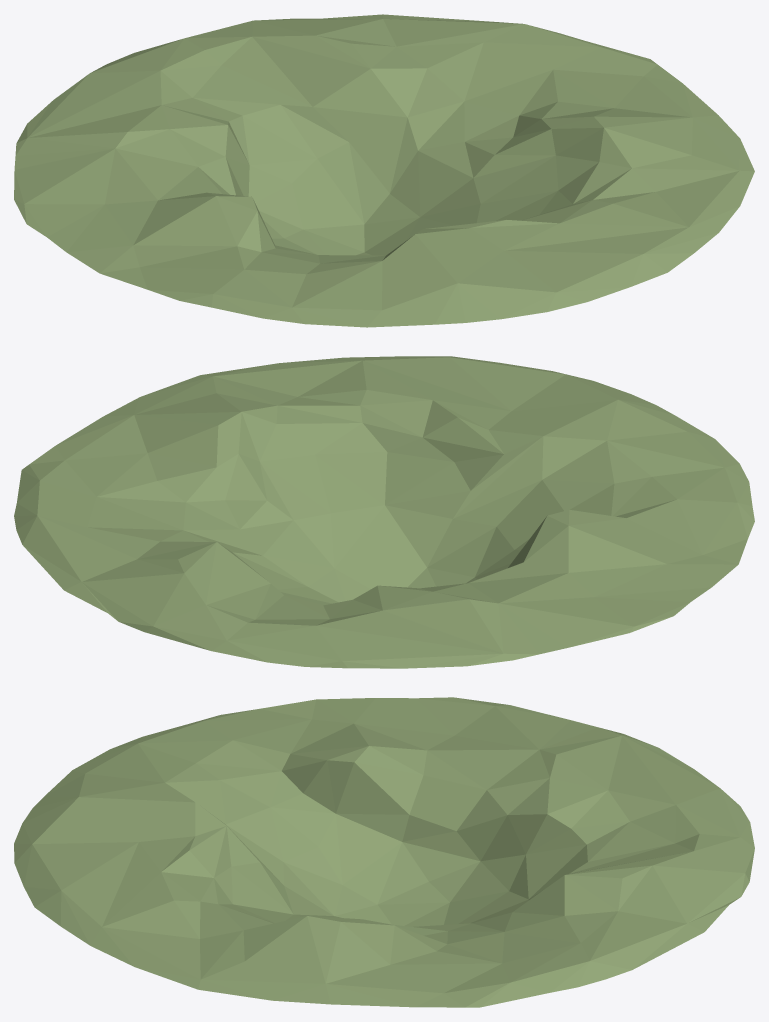
Rendered from 凹陷地.fbx.
3 views of the same model, one above another, from view 1: azimuth 30°, elevation 25°; view 2: azimuth 150°, elevation 25°; view 3: azimuth 270°, elevation 25° (orthographic).
Visible parts, largest first — view 1: 凹陷地; view 2: 凹陷地; view 3: 凹陷地.
Boxes of the visible parts, bbox=[...] form: 凹陷地: bbox=[14, 14, 754, 327]; 凹陷地: bbox=[14, 356, 754, 668]; 凹陷地: bbox=[14, 697, 754, 1007].
Size of the model in its own units: 663 by 109 by 669.
1 material, 1 textured.
